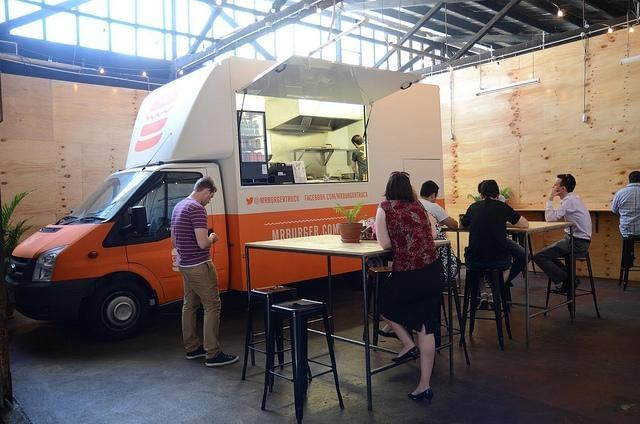truck: (2, 56, 447, 336)
